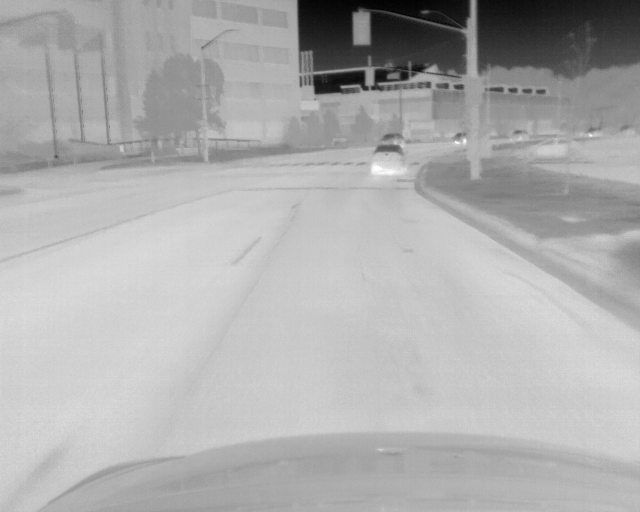car: (371, 144, 403, 176), (378, 133, 404, 144), (508, 130, 529, 142), (453, 132, 468, 145)
